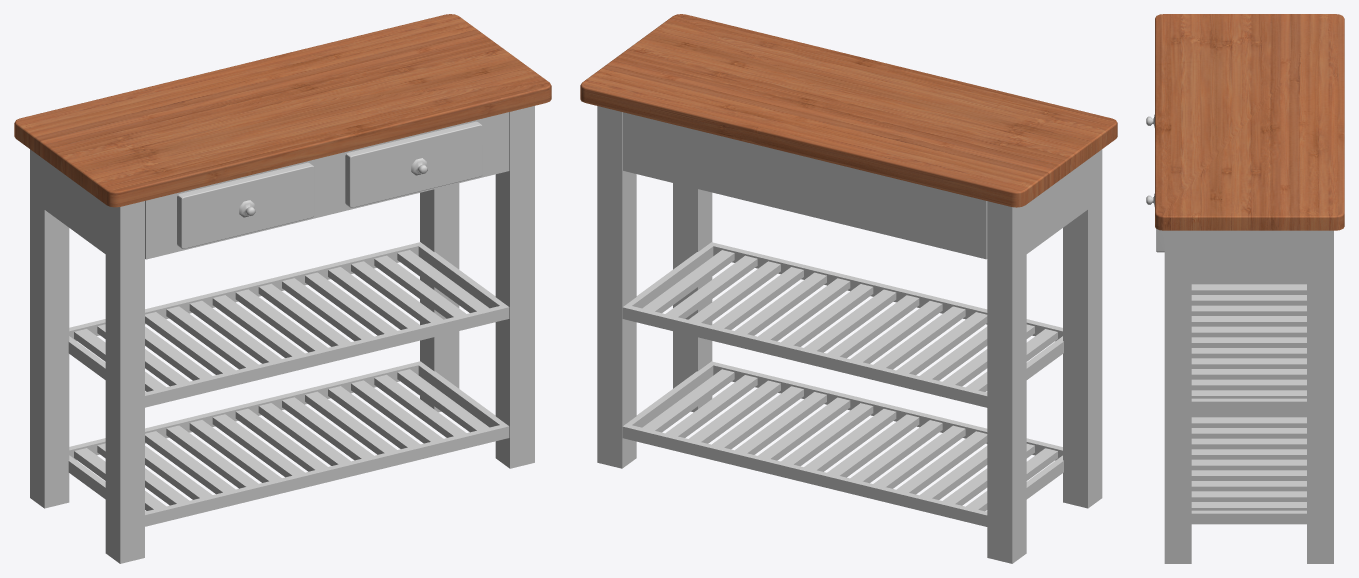
The model's file is Baking_Table.fbx.
3 views of the same model, side by side, from view 1: azimuth 30°, elevation 25°; view 2: azimuth 150°, elevation 25°; view 3: azimuth 270°, elevation 25° (orthographic). The views are drawn at different scales.
Parts seen in each view (by area): view 1: Kitchen_Table__Leg_01, Kitchen_Table__Middle_, Kitchen_Table__Middle_002, Kitchen_Table__Boxes_; view 2: Kitchen_Table__Leg_01, Kitchen_Table__Middle_002, Kitchen_Table__Middle_; view 3: Kitchen_Table__Leg_01, Kitchen_Table__Middle_, Kitchen_Table__Middle_002, Kitchen_Table__Boxes_.
Boxes of the visible parts, x1,y1,x2,y2 form: Kitchen_Table__Leg_01: (14,14,551,563); Kitchen_Table__Middle_: (68,242,509,407); Kitchen_Table__Middle_002: (68,361,509,526); Kitchen_Table__Boxes_: (177,121,482,248); Kitchen_Table__Leg_01: (580,14,1117,563); Kitchen_Table__Middle_002: (622,361,1063,526); Kitchen_Table__Middle_: (622,242,1063,407); Kitchen_Table__Leg_01: (1155,14,1344,563); Kitchen_Table__Middle_: (1191,283,1306,412); Kitchen_Table__Middle_002: (1191,412,1306,524); Kitchen_Table__Boxes_: (1146,114,1164,252).
Size of the model in its own units: 8.32 by 6.76 by 3.43.
2 materials, 1 textured.
